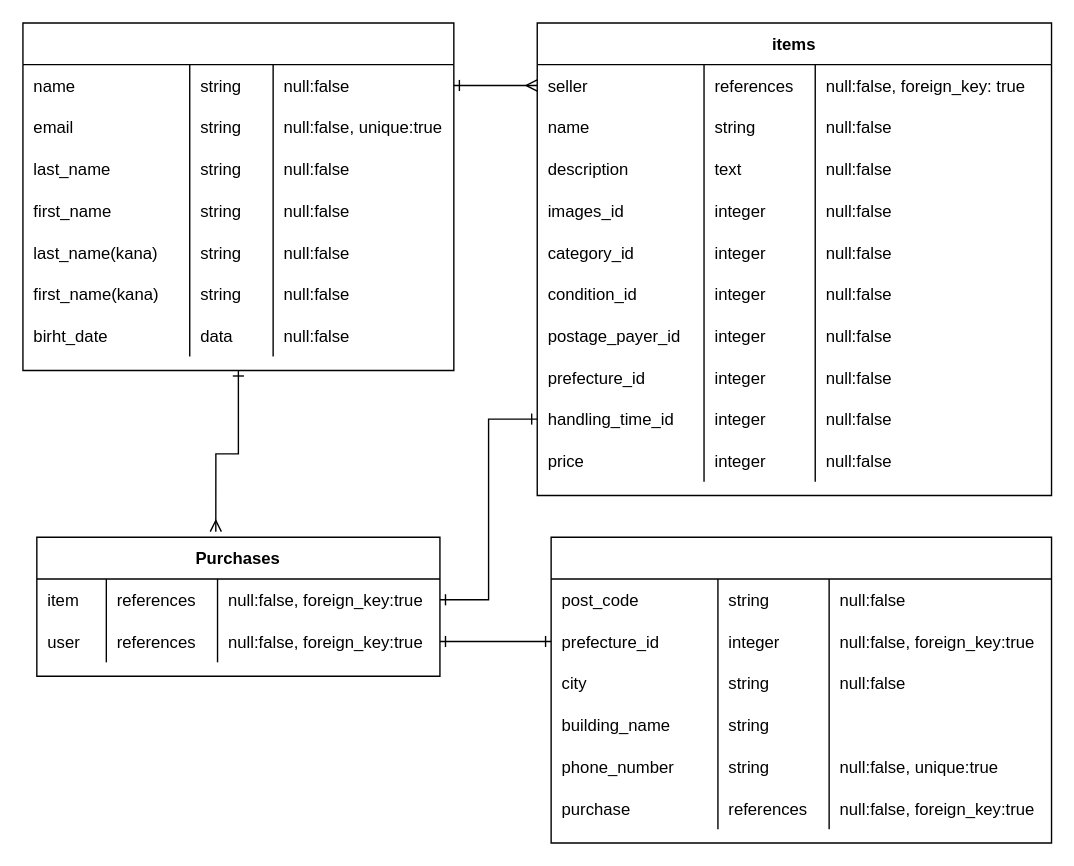
This 1074x866 diagram has some shape labels left out. The box of each missing label's shape, as (x1, y1, x2, y2) in pixels:
addressses: (550, 536, 1052, 843)
Users: (22, 22, 454, 370)
